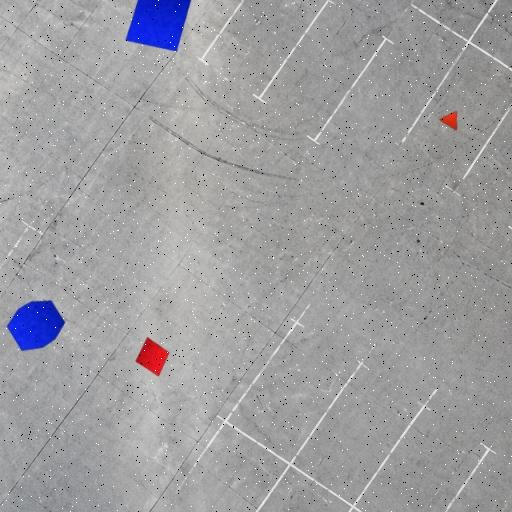BLUE_SQUARE: (125, 0, 192, 52)
RED_SQUARE: (134, 337, 170, 377)
